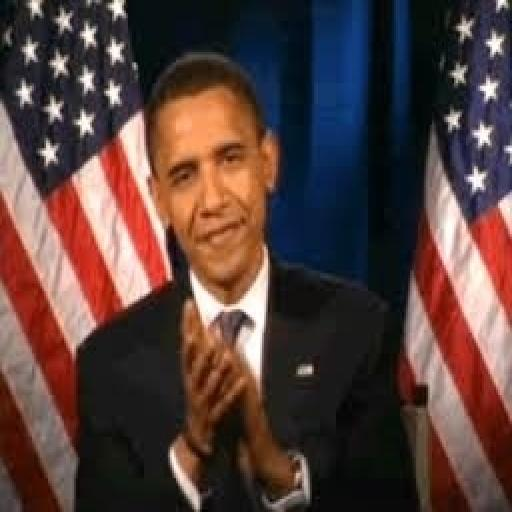clapping: (70, 50, 420, 510)
